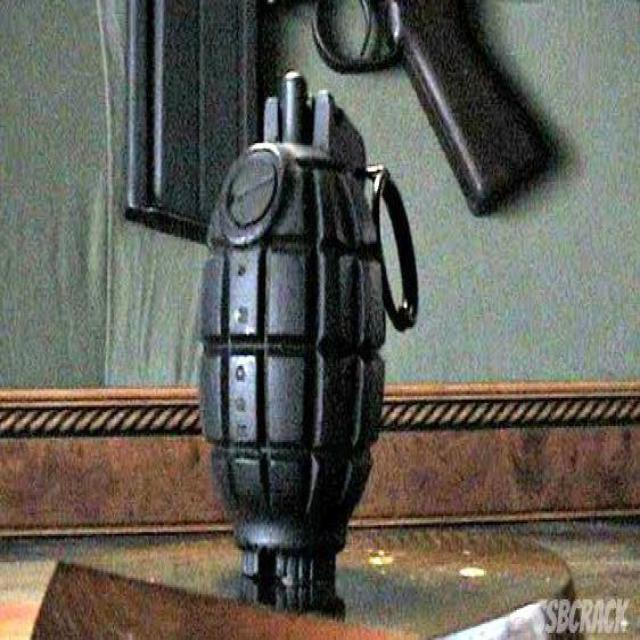grenade: (198, 73, 421, 590), (127, 1, 513, 218)
